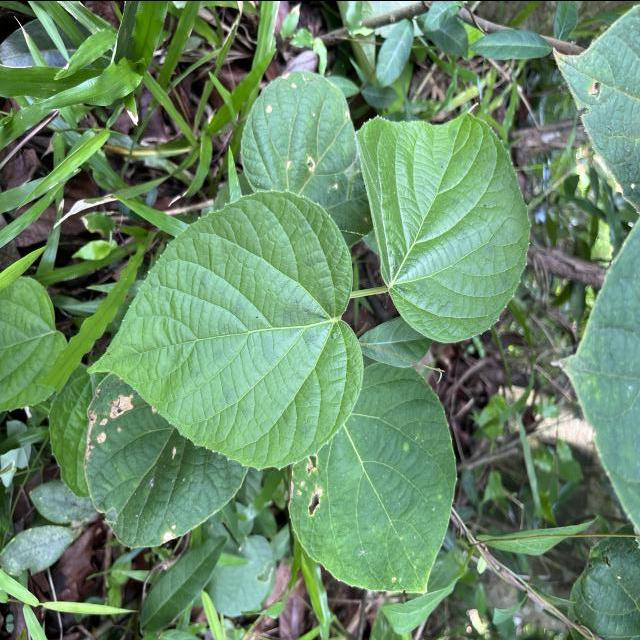Clerodendrum infortunatum: (84, 187, 366, 473), (354, 99, 534, 345), (284, 362, 460, 598)
